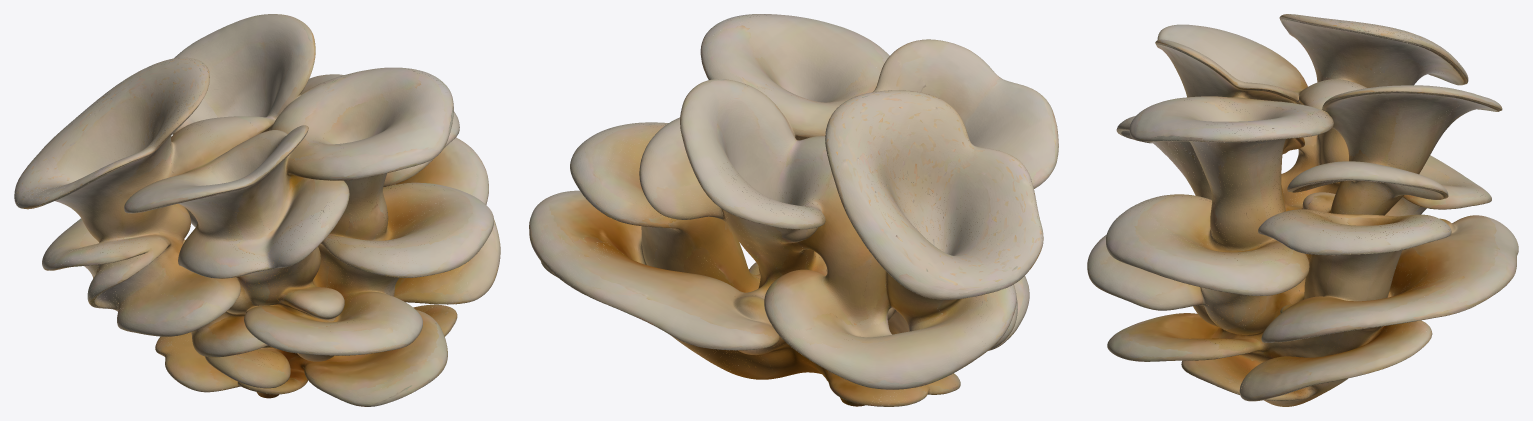
Rendered from Pleurotus.glb.
3 renders of one model, left to right at view 1: azimuth 30°, elevation 25°; view 2: azimuth 150°, elevation 25°; view 3: azimuth 270°, elevation 25°, orthographic. The views are drawn at different scales.
Parts seen in each view (by area): view 1: texture_pbr_v128_0; view 2: texture_pbr_v128_0; view 3: texture_pbr_v128_0.
Boxes of the visible parts, <box> form: texture_pbr_v128_0: <box>14,14,500,406</box>; texture_pbr_v128_0: <box>529,14,1058,406</box>; texture_pbr_v128_0: <box>1087,14,1518,406</box>.
Size of the model in its own units: 0.8571 by 0.563 by 0.6877.
Materials: 1 (1 with a texture image).
